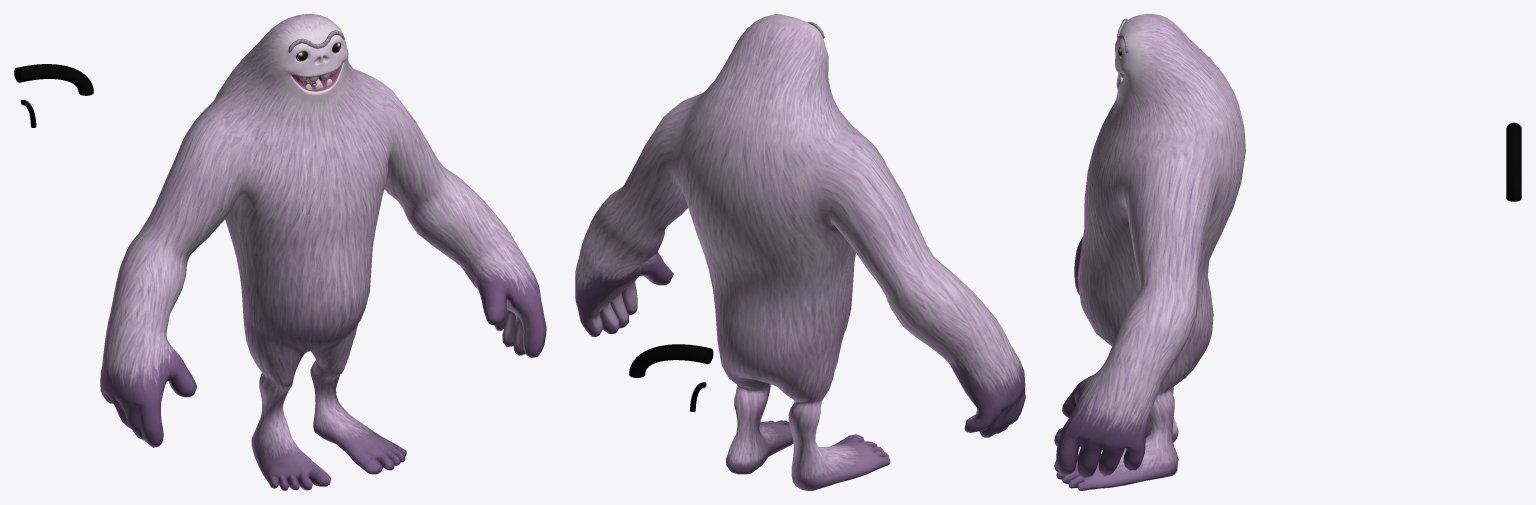
File: människa.glb
3 views of the same model, side by side, from view 1: azimuth 30°, elevation 25°; view 2: azimuth 150°, elevation 25°; view 3: azimuth 270°, elevation 25° (orthographic). The views are drawn at different scales.
Parts seen in each view (by area): view 1: node_id70, mesh_id29; view 2: node_id70, mesh_id29; view 3: node_id70, mesh_id29.
Boxes of the visible parts, left/top/right/bottom form: node_id70: left=100, top=14, right=546, bottom=490; mesh_id29: left=14, top=64, right=93, bottom=95; node_id70: left=575, top=15, right=1025, bottom=490; mesh_id29: left=629, top=344, right=713, bottom=377; node_id70: left=1054, top=14, right=1245, bottom=490; mesh_id29: left=1506, top=122, right=1521, bottom=201.
Bounding box in the file's own units: 0.512 × 0.5041 × 0.4853.
9 materials, 7 textured.
